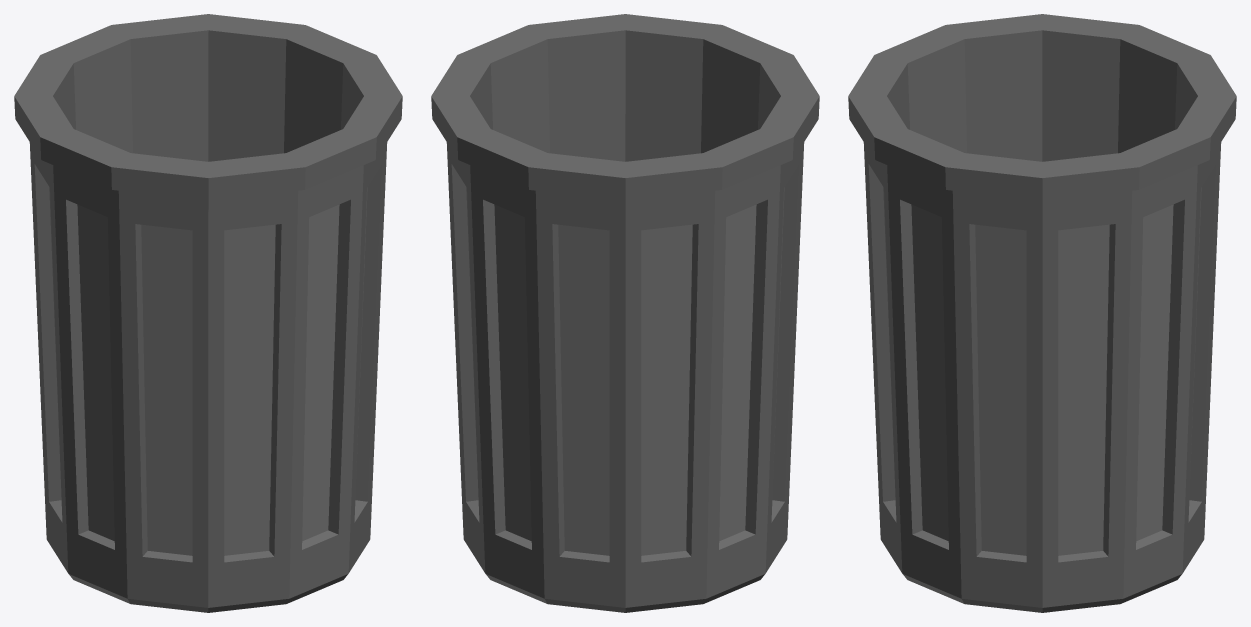
The model's file is Trash_01.fbx.
3 renders of one model, left to right at view 1: azimuth 30°, elevation 25°; view 2: azimuth 150°, elevation 25°; view 3: azimuth 270°, elevation 25°, orthographic.
Visible parts, largest first — view 1: Trash_01; view 2: Trash_01; view 3: Trash_01.
Part boxes in pixels (x1,y1,x2,y2): Trash_01: (14, 14, 402, 612); Trash_01: (431, 14, 819, 612); Trash_01: (848, 14, 1236, 612).
Size of the model in its own units: 64.46 by 82.57 by 64.46.
